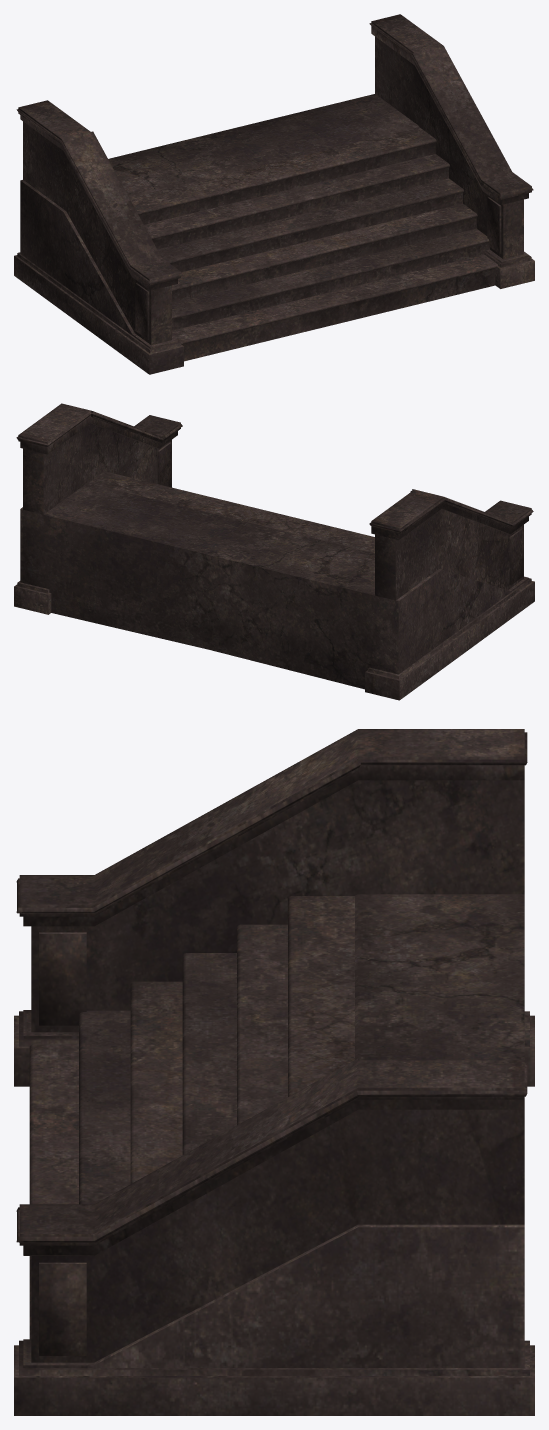
Rendered from SK1 STAIR EXT.fbx.
3 views of the same model, one above another, from view 1: azimuth 30°, elevation 25°; view 2: azimuth 150°, elevation 25°; view 3: azimuth 270°, elevation 25° (orthographic). The views are drawn at different scales.
Parts seen in each view (by area): view 1: SK1 STAIR EXT.002; view 2: SK1 STAIR EXT.002; view 3: SK1 STAIR EXT.002.
Boxes of the visible parts, x1,y1,x2,y2 form: SK1 STAIR EXT.002: [14, 14, 534, 374]; SK1 STAIR EXT.002: [14, 403, 534, 700]; SK1 STAIR EXT.002: [14, 729, 534, 1415].
Size of the model in its own units: 440 by 185 by 267.
